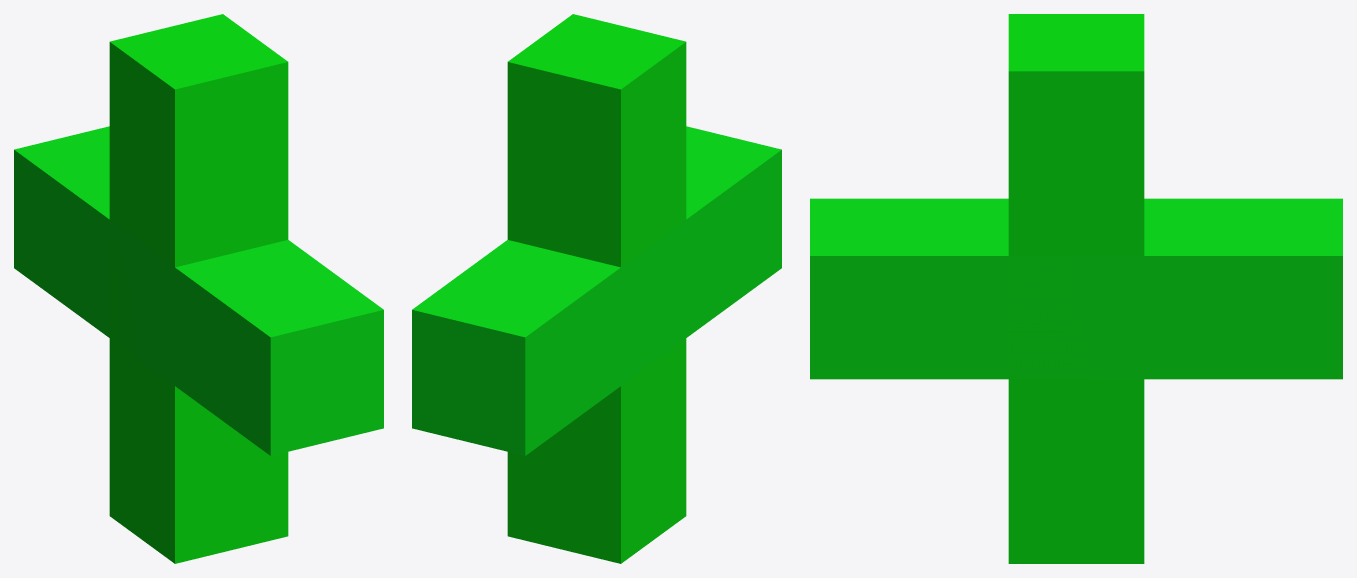
The model's file is cong.fbx.
3 renders of one model, left to right at view 1: azimuth 30°, elevation 25°; view 2: azimuth 150°, elevation 25°; view 3: azimuth 270°, elevation 25°, orthographic. The views are drawn at different scales.
Parts seen in each view (by area): view 1: Cube.001, Cube; view 2: Cube.001, Cube; view 3: Cube, Cube.001.
Boxes of the visible parts, <box> form: Cube.001: <box>109,14,288,563</box>; Cube: <box>14,126,383,455</box>; Cube.001: <box>507,14,686,563</box>; Cube: <box>412,126,781,455</box>; Cube: <box>810,198,1342,379</box>; Cube.001: <box>1008,14,1144,563</box>.
Size of the model in its own units: 100 by 400 by 392.
